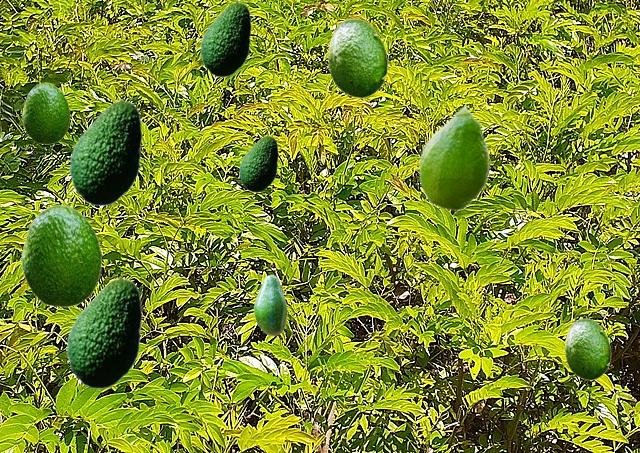avocado: (66, 277, 141, 388), (21, 204, 101, 306), (69, 99, 141, 205), (418, 104, 489, 210), (327, 18, 387, 97), (200, 1, 250, 76), (22, 82, 69, 143), (564, 318, 610, 379), (239, 135, 277, 191), (253, 274, 286, 335)
